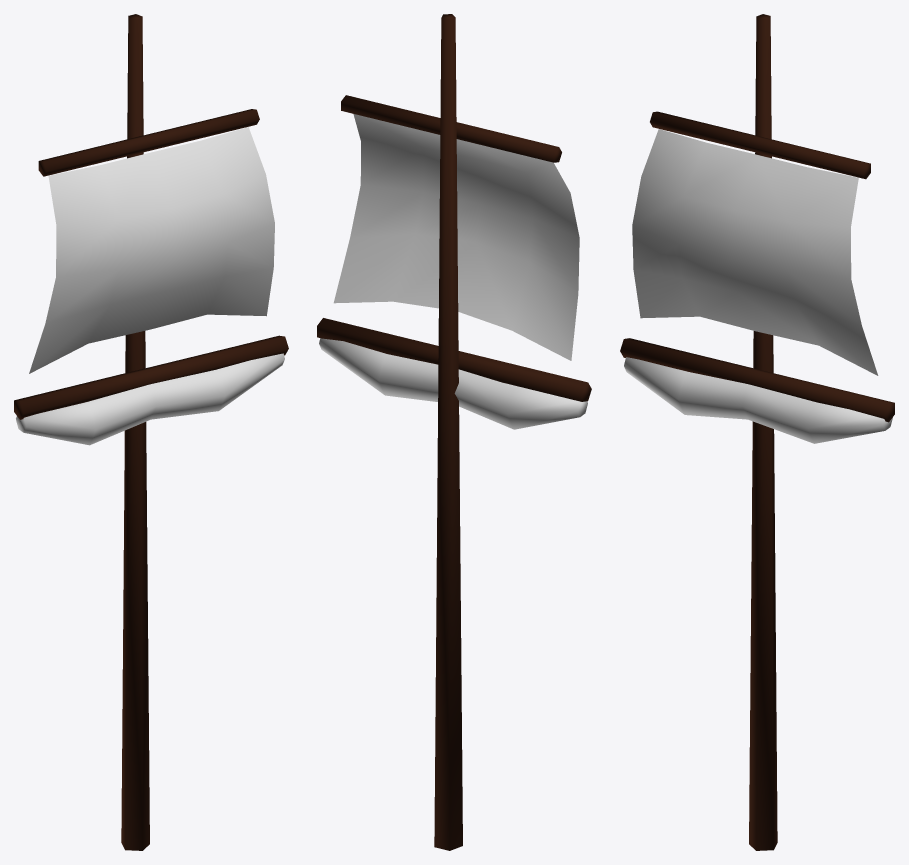
File: mainmast-half.obj
The picture shows the model from 3 angles, left to right: view 1: azimuth 30°, elevation 25°; view 2: azimuth 150°, elevation 25°; view 3: azimuth 330°, elevation 25°; orthographic projection.
Visible parts, largest first — view 1: Plane.009_Plane.000_SailCloth, Cylinder.019_Cylinder.007_Wood, Cylinder.022_Cylinder.011_SailCloth, Cylinder.021_Cylinder.009_Wood, Cylinder.020_Cylinder.008_Wood; view 2: Plane.009_Plane.000_SailCloth, Cylinder.019_Cylinder.007_Wood, Cylinder.022_Cylinder.011_SailCloth, Cylinder.021_Cylinder.009_Wood, Cylinder.020_Cylinder.008_Wood; view 3: Plane.009_Plane.000_SailCloth, Cylinder.019_Cylinder.007_Wood, Cylinder.022_Cylinder.011_SailCloth, Cylinder.021_Cylinder.009_Wood, Cylinder.020_Cylinder.008_Wood.
Boxes of the visible parts, x1=… form: Plane.009_Plane.000_SailCloth: x1=29, y1=127, x2=274, y2=373; Cylinder.019_Cylinder.007_Wood: x1=121, y1=14, x2=149, y2=850; Cylinder.022_Cylinder.011_SailCloth: x1=16, y1=353, x2=284, y2=445; Cylinder.021_Cylinder.009_Wood: x1=14, y1=335, x2=288, y2=419; Cylinder.020_Cylinder.008_Wood: x1=38, y1=109, x2=259, y2=176; Plane.009_Plane.000_SailCloth: x1=333, y1=114, x2=579, y2=360; Cylinder.019_Cylinder.007_Wood: x1=434, y1=14, x2=462, y2=850; Cylinder.022_Cylinder.011_SailCloth: x1=319, y1=338, x2=587, y2=429; Cylinder.021_Cylinder.009_Wood: x1=317, y1=318, x2=591, y2=401; Cylinder.020_Cylinder.008_Wood: x1=341, y1=95, x2=561, y2=162; Plane.009_Plane.000_SailCloth: x1=632, y1=129, x2=878, y2=375; Cylinder.019_Cylinder.007_Wood: x1=749, y1=14, x2=777, y2=850; Cylinder.022_Cylinder.011_SailCloth: x1=624, y1=357, x2=892, y2=443; Cylinder.021_Cylinder.009_Wood: x1=620, y1=338, x2=894, y2=422; Cylinder.020_Cylinder.008_Wood: x1=650, y1=111, x2=870, y2=179.
Size of the model in its own units: 1.79 by 5.35 by 0.4927.
